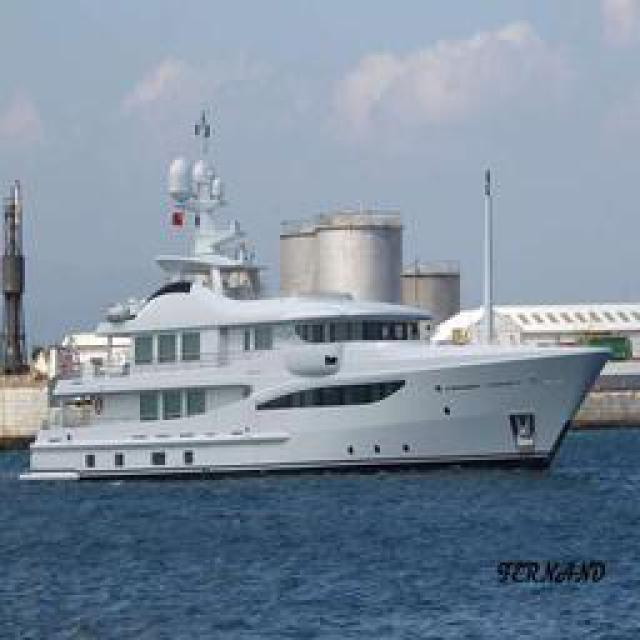Ship: (13, 287, 628, 485)
